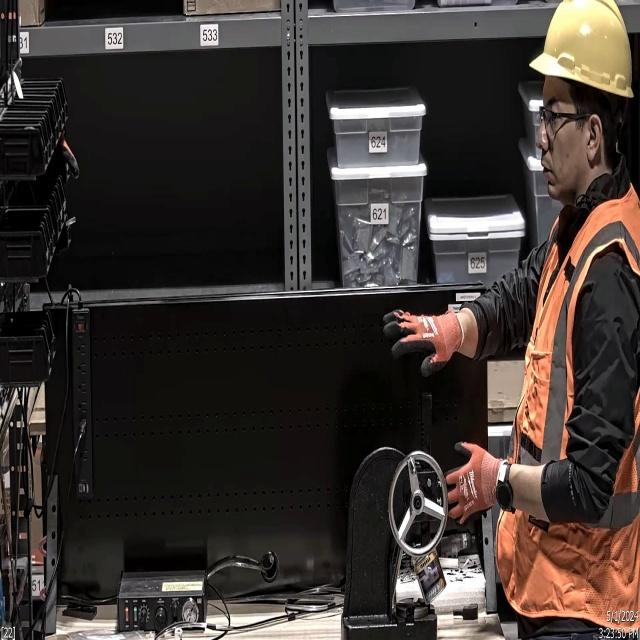construction-gloves: (382, 304, 466, 377), (438, 440, 500, 530)
